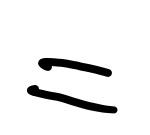eqv: (24, 54, 123, 114)
